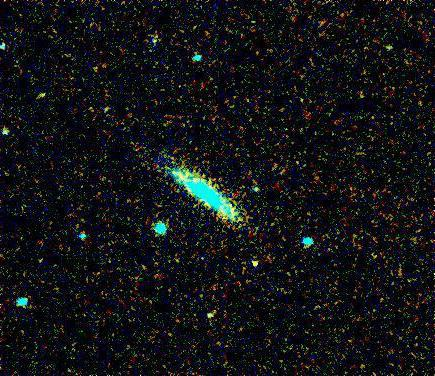star: (241, 243, 271, 273)
